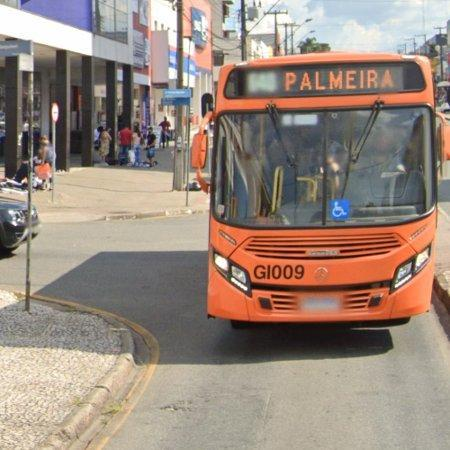buses: (193, 52, 438, 327)
